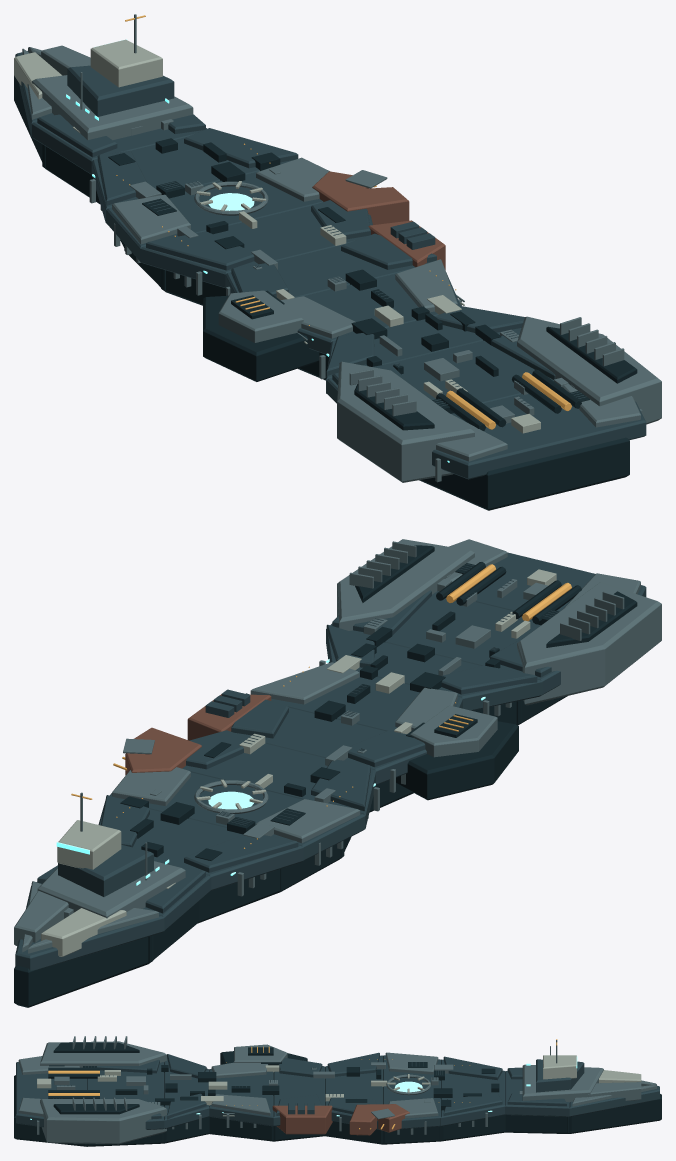
Rendered from nesis-capital-v1.glb.
The picture shows the model from 3 angles, top to bottom: view 1: azimuth 30°, elevation 25°; view 2: azimuth 150°, elevation 25°; view 3: azimuth 270°, elevation 25°; orthographic projection. The views are drawn at different scales.
Visible parts, largest first — view 1: Nesis_Section_-1_1, Nesis_Section_-2_1, Nesis_Section_0_2, Nesis_Section_0_1, Nesis_Section_1_0, Nesis_Section_1_2, Nesis_Section_-1_2, Nesis_Section_-2_2, Nesis_Section_1_1, Nesis_Section_-1_0, Nesis_Section_0_0, Nesis_Section_-3_2 (+8 smaller); view 2: Nesis_Section_-1_1, Nesis_Section_0_2, Nesis_Section_-2_1, Nesis_Section_0_1, Nesis_Section_-1_2, Nesis_Section_-1_0, Nesis_Section_-2_0, Nesis_Section_-3_2, Nesis_Section_-2_2, Nesis_Section_0_0, Nesis_Section_-3_1, Nesis_Section_-3_0 (+9 smaller); view 3: Nesis_Section_-2_1, Nesis_Section_0_2, Nesis_Section_-1_1, Nesis_Section_0_1, Nesis_Section_-2_0, Nesis_Section_0_0, Nesis_Section_-1_0, Nesis_Section_-1_2, Nesis_Section_-2_2, Nesis_Section_-1_6, Nesis_Section_-3_2, Nesis_Section_-3_0 (+10 smaller).
Boxes of the visible parts, x1=… form: Nesis_Section_-1_1: x1=140, y1=200, x2=460, y2=353; Nesis_Section_-2_1: x1=31, y1=65, x2=322, y2=260; Nesis_Section_0_2: x1=254, y1=268, x2=657, y2=481; Nesis_Section_0_1: x1=298, y1=273, x2=555, y2=406; Nesis_Section_1_0: x1=403, y1=368, x2=637, y2=510; Nesis_Section_1_2: x1=393, y1=342, x2=661, y2=482; Nesis_Section_-1_2: x1=140, y1=170, x2=464, y2=342; Nesis_Section_-2_2: x1=37, y1=14, x2=329, y2=263; Nesis_Section_1_1: x1=432, y1=391, x2=646, y2=479; Nesis_Section_-1_0: x1=161, y1=207, x2=393, y2=381; Nesis_Section_0_0: x1=256, y1=300, x2=634, y2=429; Nesis_Section_-3_2: x1=22, y1=45, x2=187, y2=139; Nesis_Section_-1_1: x1=182, y1=673, x2=462, y2=828; Nesis_Section_0_2: x1=307, y1=539, x2=661, y2=717; Nesis_Section_-2_1: x1=36, y1=772, x2=365, y2=930; Nesis_Section_0_1: x1=326, y1=590, x2=560, y2=710; Nesis_Section_-1_2: x1=123, y1=662, x2=497, y2=818; Nesis_Section_-1_0: x1=204, y1=684, x2=518, y2=858; Nesis_Section_-2_0: x1=120, y1=796, x2=344, y2=962; Nesis_Section_-3_2: x1=14, y1=793, x2=185, y2=953; Nesis_Section_-2_2: x1=46, y1=767, x2=359, y2=909; Nesis_Section_0_0: x1=351, y1=545, x2=637, y2=725; Nesis_Section_-3_1: x1=15, y1=852, x2=164, y2=970; Nesis_Section_-3_0: x1=14, y1=935, x2=153, y2=1007; Nesis_Section_-2_1: x1=384, y1=1055, x2=581, y2=1129; Nesis_Section_0_2: x1=40, y1=1036, x2=265, y2=1144; Nesis_Section_-1_1: x1=209, y1=1052, x2=383, y2=1130; Nesis_Section_0_1: x1=85, y1=1054, x2=266, y2=1129; Nesis_Section_-2_0: x1=381, y1=1062, x2=571, y2=1144; Nesis_Section_0_0: x1=54, y1=1042, x2=265, y2=1146; Nesis_Section_-1_0: x1=209, y1=1047, x2=384, y2=1144; Nesis_Section_-1_2: x1=212, y1=1044, x2=396, y2=1131; Nesis_Section_-2_2: x1=387, y1=1040, x2=590, y2=1134; Nesis_Section_-1_6: x1=272, y1=1104, x2=407, y2=1135; Nesis_Section_-3_2: x1=525, y1=1064, x2=656, y2=1106; Nesis_Section_-3_0: x1=567, y1=1094, x2=661, y2=1133.
Bounding box in the file's own units: 30.26 × 14.98 × 101.
